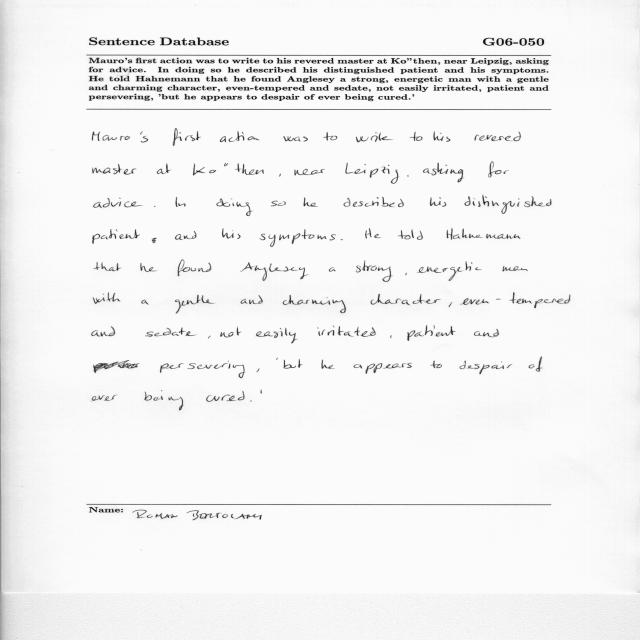word: (464, 195, 552, 214), (460, 293, 570, 308), (160, 361, 245, 378), (260, 229, 336, 247), (241, 262, 309, 281), (417, 261, 481, 281), (345, 163, 399, 184), (283, 295, 346, 313), (93, 229, 157, 244), (447, 228, 521, 240), (193, 163, 264, 175), (423, 163, 464, 183), (356, 260, 393, 282), (144, 391, 184, 411), (371, 294, 441, 305), (175, 295, 215, 314), (407, 326, 456, 341), (460, 361, 512, 374), (317, 326, 376, 337), (353, 363, 412, 374), (256, 328, 298, 343), (216, 199, 253, 216), (92, 132, 148, 143), (344, 197, 404, 207), (94, 360, 139, 373), (178, 260, 212, 276), (145, 327, 197, 337), (173, 128, 201, 146), (93, 198, 142, 208), (220, 131, 260, 142), (93, 164, 137, 174), (207, 391, 245, 402), (475, 132, 521, 141), (356, 132, 392, 142), (488, 162, 509, 178), (94, 293, 121, 304), (398, 229, 423, 240), (95, 262, 122, 271), (92, 327, 115, 337), (221, 327, 242, 337), (222, 228, 241, 239), (474, 329, 499, 337), (283, 359, 303, 369), (175, 231, 197, 240), (241, 295, 263, 304), (529, 357, 542, 372), (434, 131, 451, 142), (294, 169, 325, 175), (365, 228, 381, 239), (430, 197, 446, 207), (140, 263, 157, 272), (92, 395, 117, 401), (157, 164, 171, 174), (304, 197, 318, 207), (502, 266, 528, 271), (283, 137, 308, 142), (410, 132, 423, 141), (322, 360, 335, 369), (324, 132, 338, 140), (176, 197, 186, 207), (271, 201, 286, 207), (431, 361, 442, 368), (142, 300, 149, 305), (329, 268, 336, 272), (449, 302, 452, 307), (208, 335, 211, 339), (257, 368, 260, 372), (260, 390, 262, 394), (279, 174, 281, 177), (407, 175, 409, 177), (405, 273, 407, 275), (391, 335, 392, 339), (276, 358, 278, 360), (341, 239, 343, 240), (250, 401, 252, 402), (154, 206, 155, 207)
